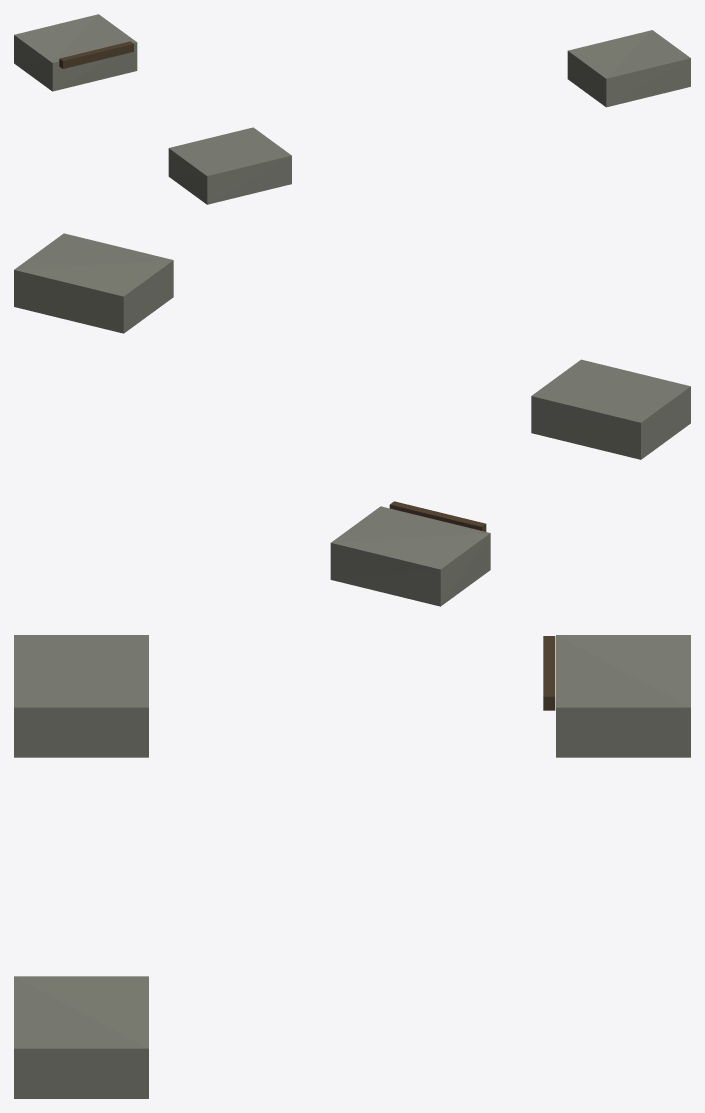
File: RES-02-4.glb
3 renders of one model, top to bottom at view 1: azimuth 30°, elevation 25°; view 2: azimuth 150°, elevation 25°; view 3: azimuth 270°, elevation 25°, orthographic. The views are drawn at different scales.
Visible parts, largest first — view 1: city-details/RES-02-4; view 2: city-details/RES-02-4; view 3: city-details/RES-02-4.
Part boxes in pixels (x1,y1,x2,y2): city-details/RES-02-4: [14, 14, 690, 204]; city-details/RES-02-4: [14, 233, 690, 606]; city-details/RES-02-4: [14, 635, 690, 1098].
Bounding box in the file's own units: 8.85 × 0.57 × 6.12.
